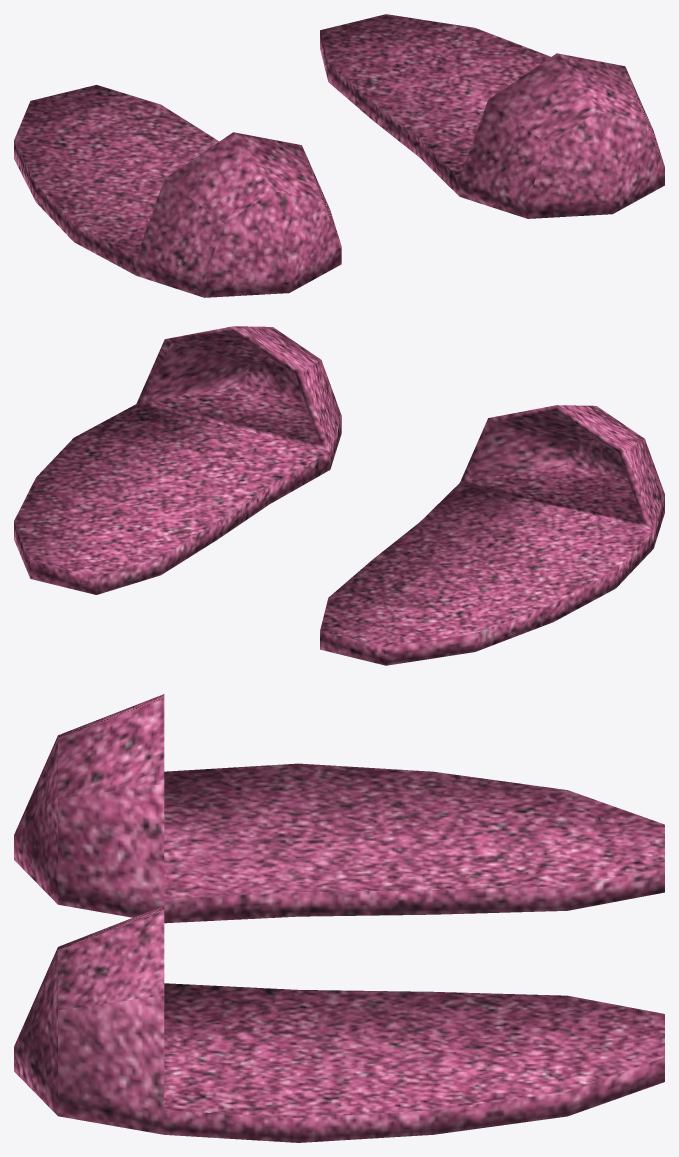
Rendered from slippers.FBX.
3 renders of one model, top to bottom at view 1: azimuth 30°, elevation 25°; view 2: azimuth 150°, elevation 25°; view 3: azimuth 270°, elevation 25°, orthographic. The views are drawn at different scales.
Visible parts, largest first — view 1: Sphere001; view 2: Sphere001; view 3: Sphere001.
Boxes of the visible parts, x1,y1,x2,y2 form: Sphere001: [14, 14, 664, 297]; Sphere001: [14, 326, 664, 665]; Sphere001: [14, 694, 664, 1142].
Size of the model in its own units: 168 by 35.44 by 130.
